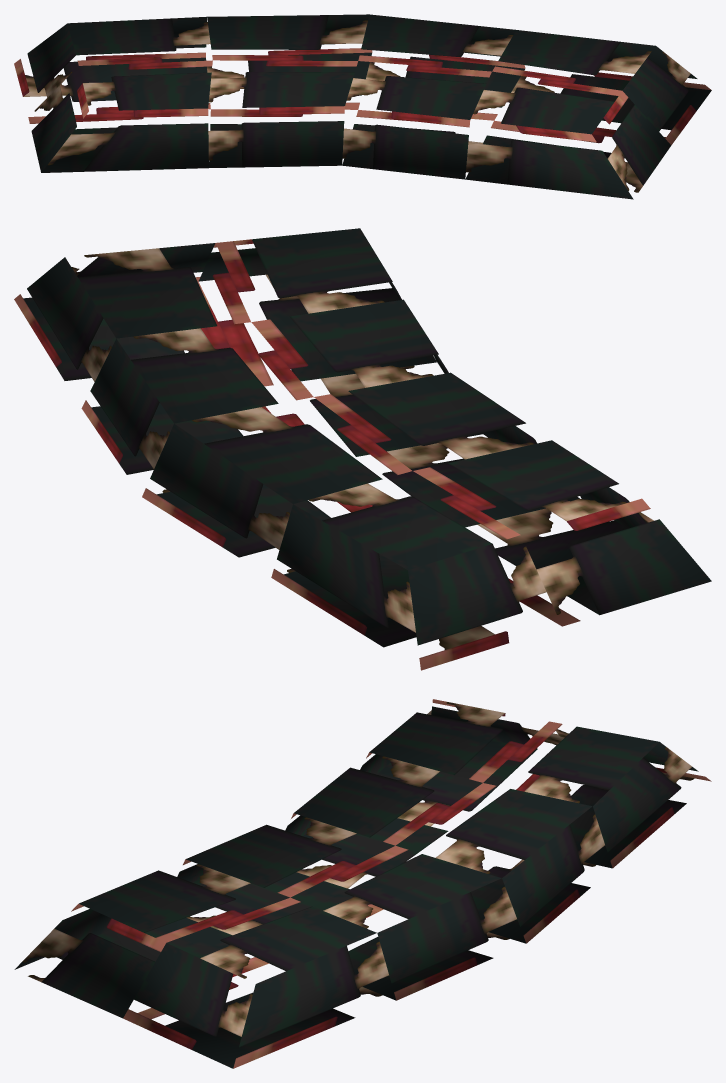
3 renders of one model, top to bottom at view 1: azimuth 30°, elevation 25°; view 2: azimuth 150°, elevation 25°; view 3: azimuth 270°, elevation 25°, orthographic. The views are drawn at different scales.
Visible parts, largest first — view 1: T1L6M003_7; view 2: T1L6M003_7; view 3: T1L6M003_7.
Boxes of the visible parts, box(x1,y1,x2,y2) form: T1L6M003_7: box(14, 14, 711, 199); T1L6M003_7: box(14, 228, 711, 670); T1L6M003_7: box(14, 699, 711, 1068).
Bounding box in the file's own units: 4.44 × 0.3525 × 3.85.
